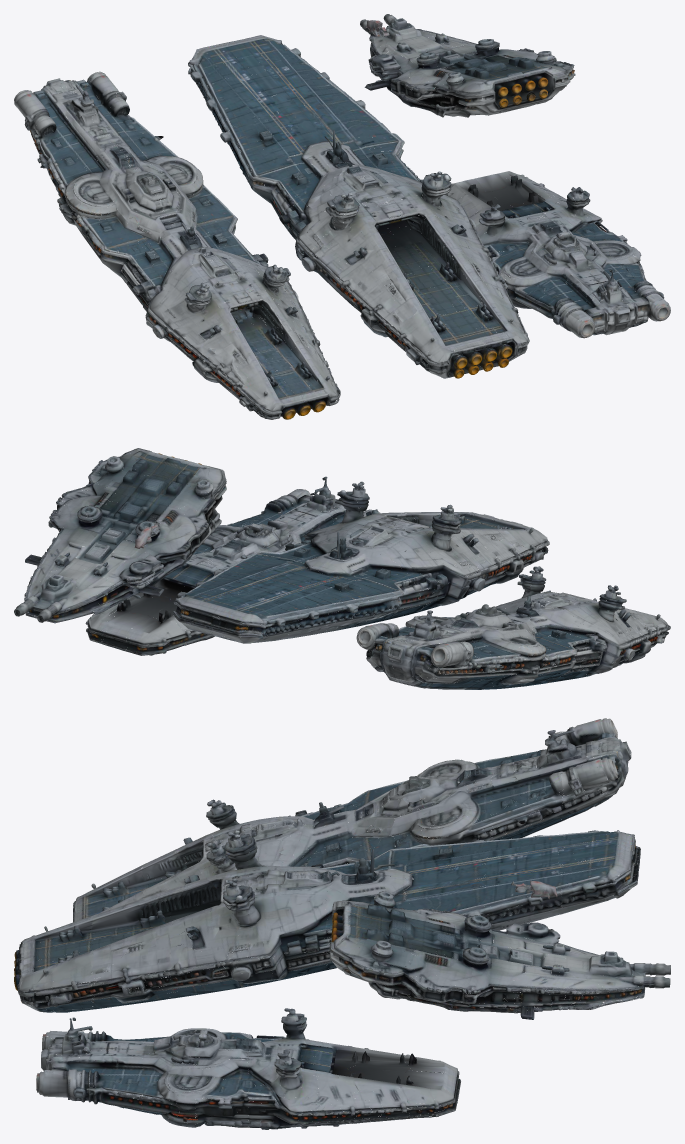
Rendered from colony_starship_opt.glb.
3 renders of one model, top to bottom at view 1: azimuth 30°, elevation 25°; view 2: azimuth 150°, elevation 25°; view 3: azimuth 270°, elevation 25°, orthographic. The views are drawn at different scales.
Parts seen in each view (by area): view 1: world; view 2: world; view 3: world.
Part boxes in pixels (x1=…): world: x1=14, y1=14, x2=670, y2=419; world: x1=14, y1=448, x2=670, y2=689; world: x1=14, y1=718, x2=670, y2=1129.
Size of the model in its own units: 0.957 by 0.3506 by 1.
Materials: 1 (1 with a texture image).
